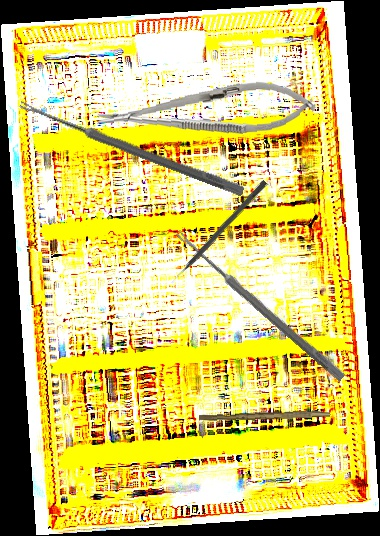Needle Holder: (94, 77, 319, 144)
Pusher: (168, 178, 268, 286)
Scalpel Handle: (198, 407, 331, 424)
Surgical Spoon: (173, 229, 347, 382), (17, 99, 246, 197)
